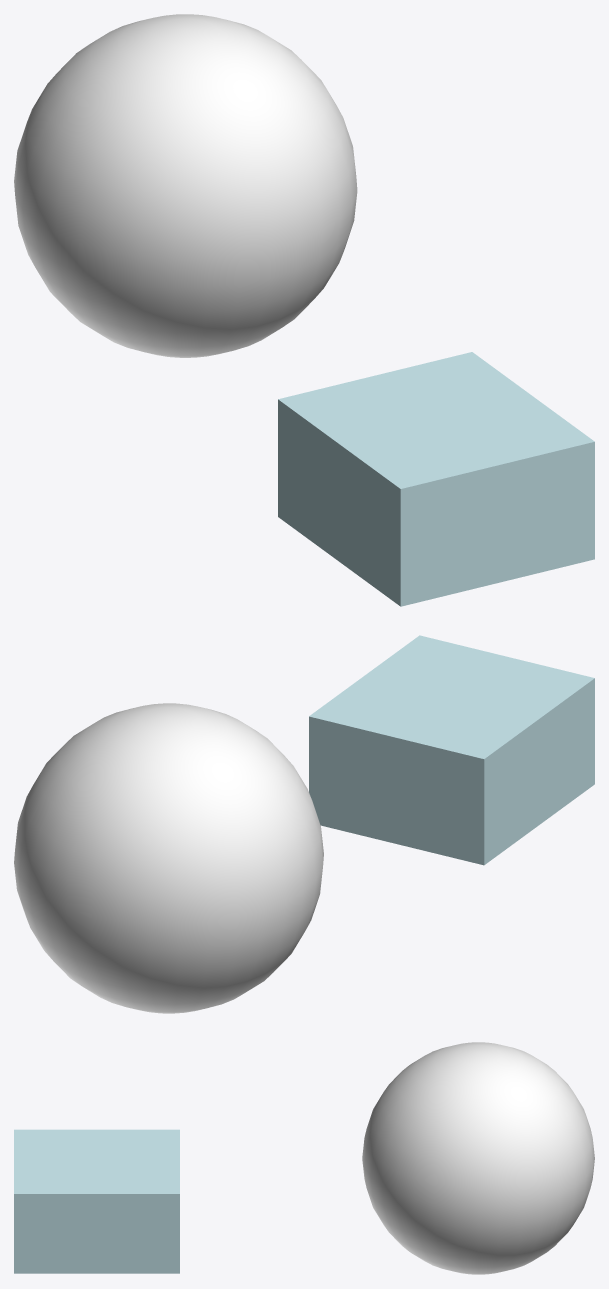
The model's file is test004.gltf.glb.
3 renders of one model, top to bottom at view 1: azimuth 30°, elevation 25°; view 2: azimuth 150°, elevation 25°; view 3: azimuth 270°, elevation 25°, orthographic. The views are drawn at different scales.
Visible parts, largest first — view 1: Sphere001, Box001; view 2: Sphere001, Box001; view 3: Sphere001, Box001.
Boxes of the visible parts, bbox=[...] form: Sphere001: bbox=[14, 14, 357, 357]; Box001: bbox=[278, 352, 594, 606]; Sphere001: bbox=[14, 703, 323, 1013]; Box001: bbox=[309, 635, 594, 865]; Sphere001: bbox=[362, 1042, 594, 1274]; Box001: bbox=[14, 1129, 179, 1273].
Size of the model in its own units: 29.52 by 29.52 by 73.67.
Materials: 2 (1 with a texture image).
